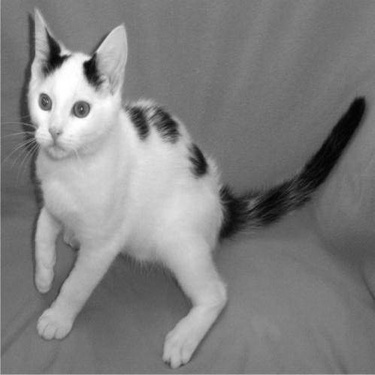cat: (28, 8, 366, 371)
